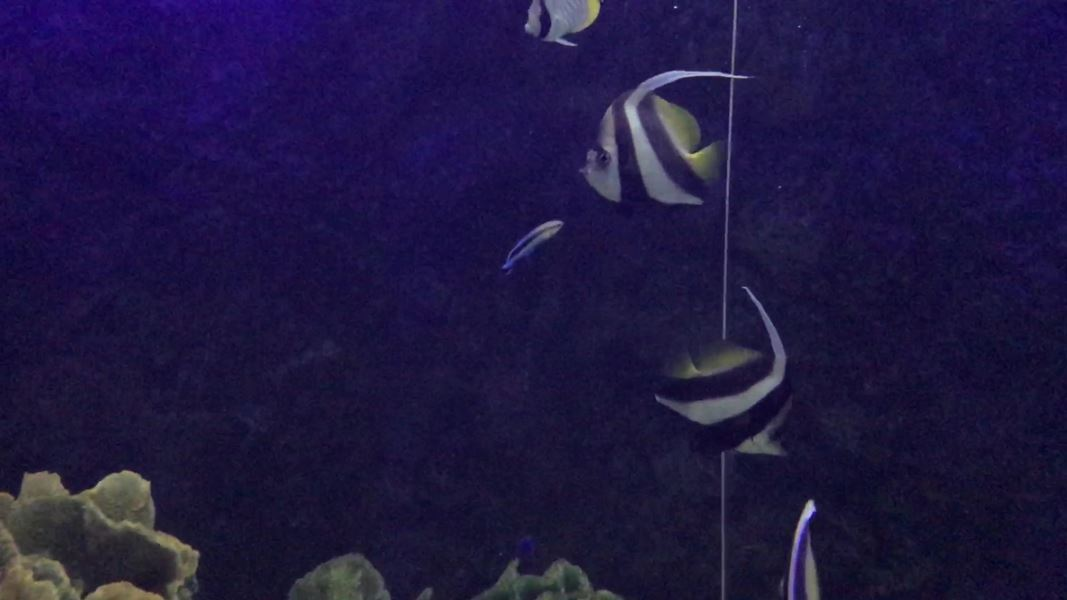Bluesteak cleaner wrasse: (499, 210, 571, 283)
